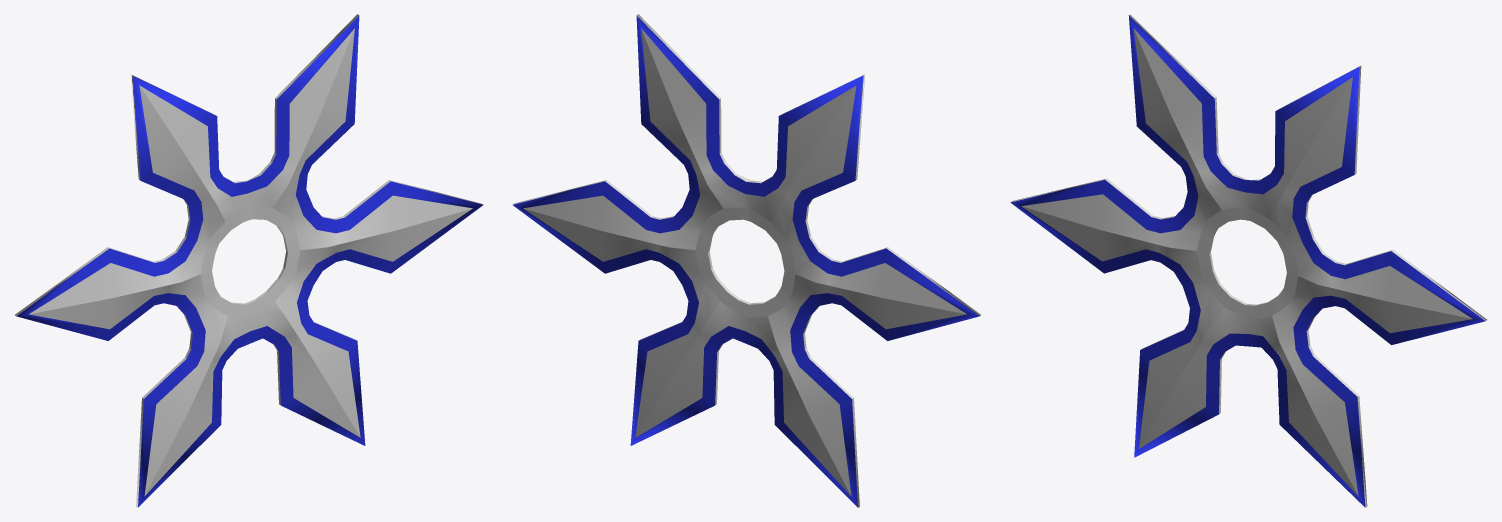
The model's file is shuriken_rightrotation.fbx.
3 views of the same model, side by side, from view 1: azimuth 30°, elevation 25°; view 2: azimuth 150°, elevation 25°; view 3: azimuth 330°, elevation 25° (orthographic).
Parts seen in each view (by area): view 1: Star; view 2: Star; view 3: Star.
Part boxes in pixels (left/top/right/bottom): Star: left=15, top=14, right=483, bottom=507; Star: left=512, top=14, right=980, bottom=507; Star: left=1010, top=14, right=1487, bottom=507.
Size of the model in its own units: 29.51 by 26.45 by 1.16.
